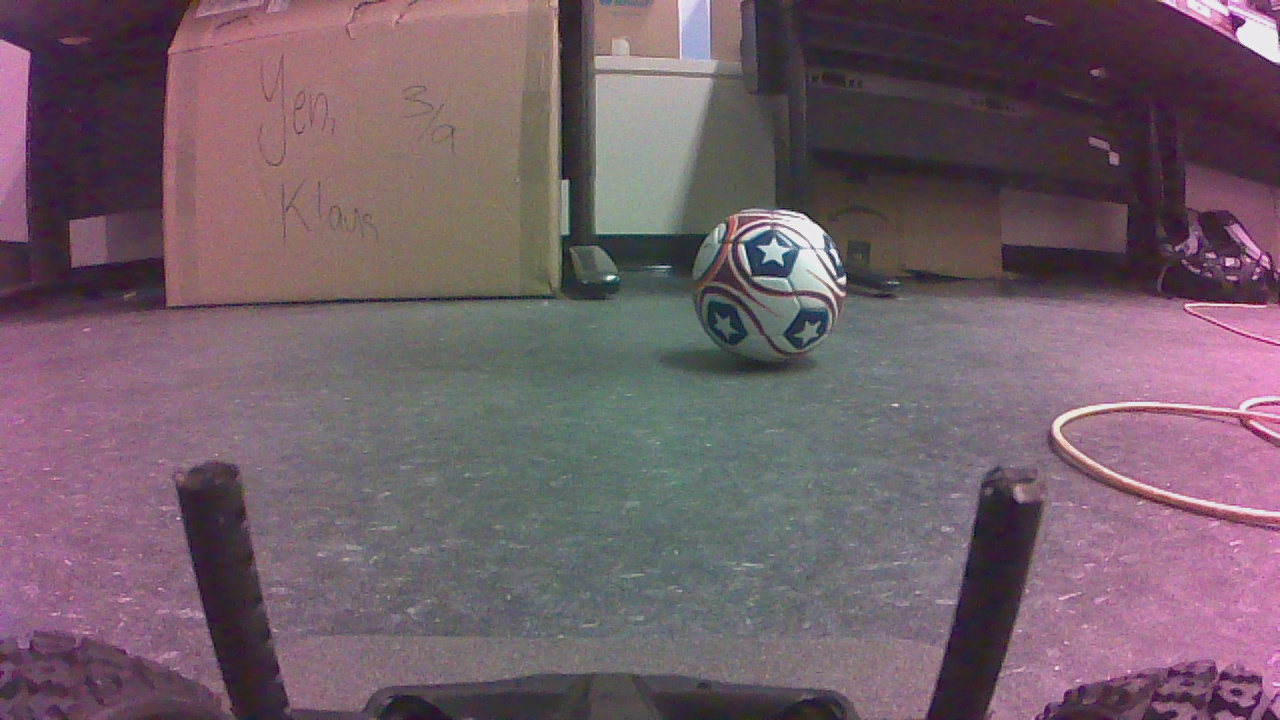ball: (697, 215, 852, 368)
